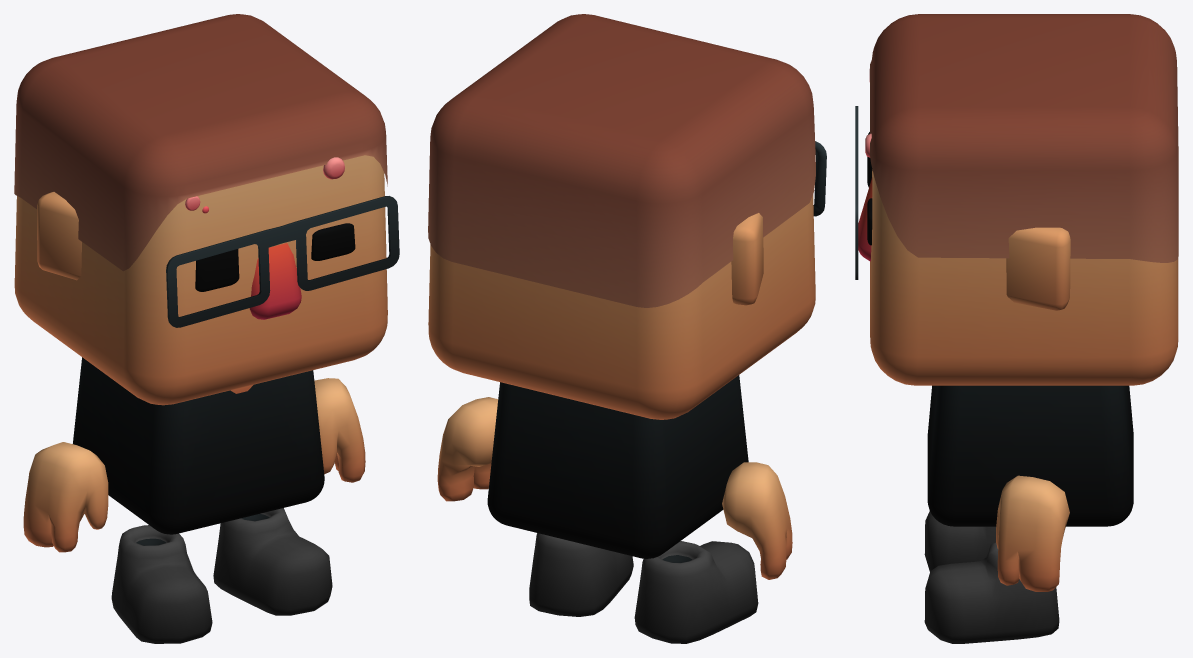
The model's file is cryptobro.glb.
3 views of the same model, side by side, from view 1: azimuth 30°, elevation 25°; view 2: azimuth 150°, elevation 25°; view 3: azimuth 270°, elevation 25° (orthographic). The views are drawn at different scales.
Parts seen in each view (by area): view 1: Cube.003, Cube.001; view 2: Cube.003; view 3: Cube.003.
Boxes of the visible parts, x1,y1,x2,y2 form: Cube.003: (14, 14, 399, 643); Cube.001: (195, 223, 355, 291); Cube.003: (428, 14, 826, 643); Cube.003: (855, 14, 1178, 643).
Bounding box in the file's own units: 1.29 × 1.93 × 1.06.
Materials: 1 (1 with a texture image).
